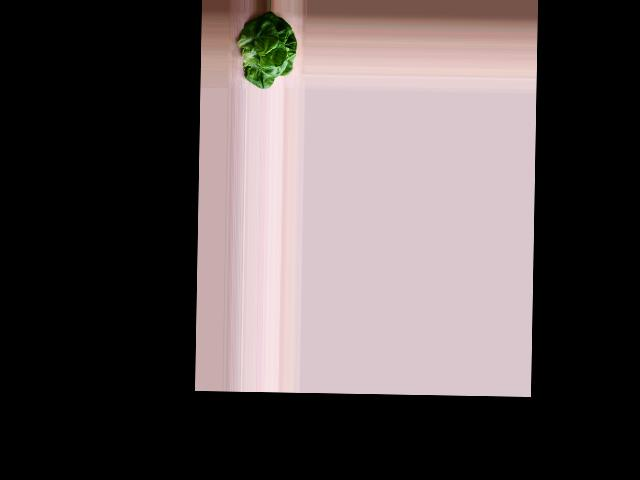lettuce: (239, 12, 297, 87)
